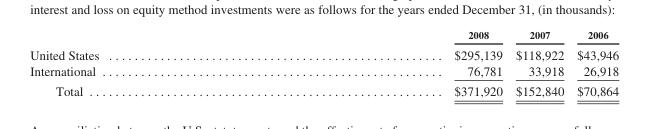table: (29, 28, 618, 98)
table column: (29, 28, 276, 98), (276, 28, 508, 98), (508, 28, 569, 98), (569, 28, 618, 98)
table column header: (29, 28, 618, 44)
table row: (29, 44, 618, 62), (29, 62, 618, 80), (29, 80, 618, 98), (29, 28, 618, 44)
